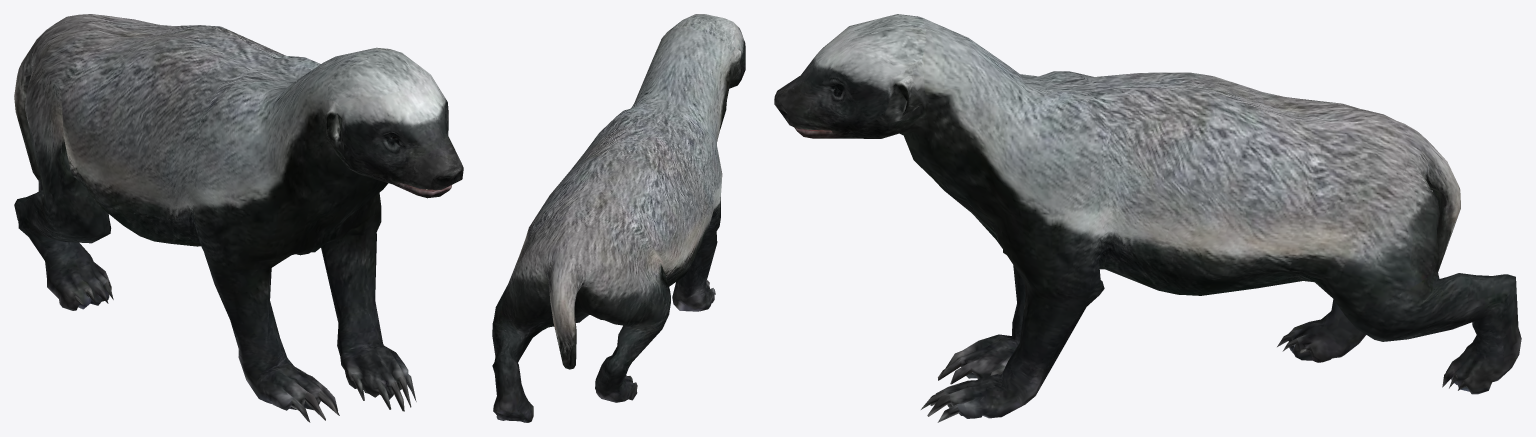
The model's file is badger.glb.
3 views of the same model, side by side, from view 1: azimuth 30°, elevation 25°; view 2: azimuth 150°, elevation 25°; view 3: azimuth 270°, elevation 25° (orthographic). The views are drawn at different scales.
Parts seen in each view (by area): view 1: Badger001_applied_clean_M_Honey_Badger_0_M_Honey_Badger_0; view 2: Badger001_applied_clean_M_Honey_Badger_0_M_Honey_Badger_0; view 3: Badger001_applied_clean_M_Honey_Badger_0_M_Honey_Badger_0.
Boxes of the visible parts, x1,y1,x2,y2 form: Badger001_applied_clean_M_Honey_Badger_0_M_Honey_Badger_0: [14, 14, 463, 422]; Badger001_applied_clean_M_Honey_Badger_0_M_Honey_Badger_0: [492, 14, 745, 422]; Badger001_applied_clean_M_Honey_Badger_0_M_Honey_Badger_0: [774, 14, 1521, 422].
Size of the model in its own units: 0.3098 by 0.5074 by 0.9098.
1 material, 1 textured.
